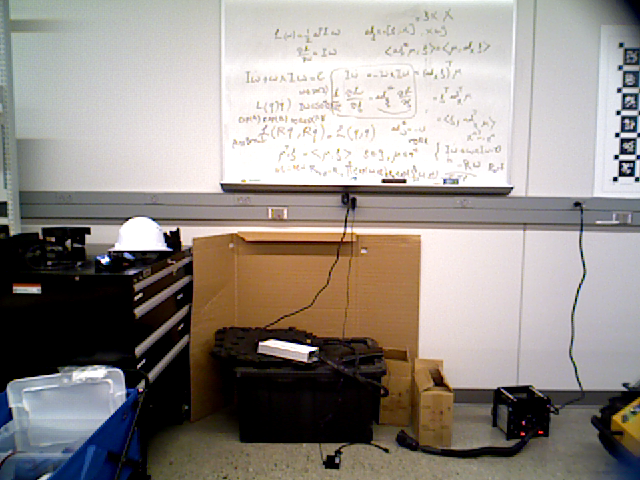painting4: (599, 25, 640, 198)
